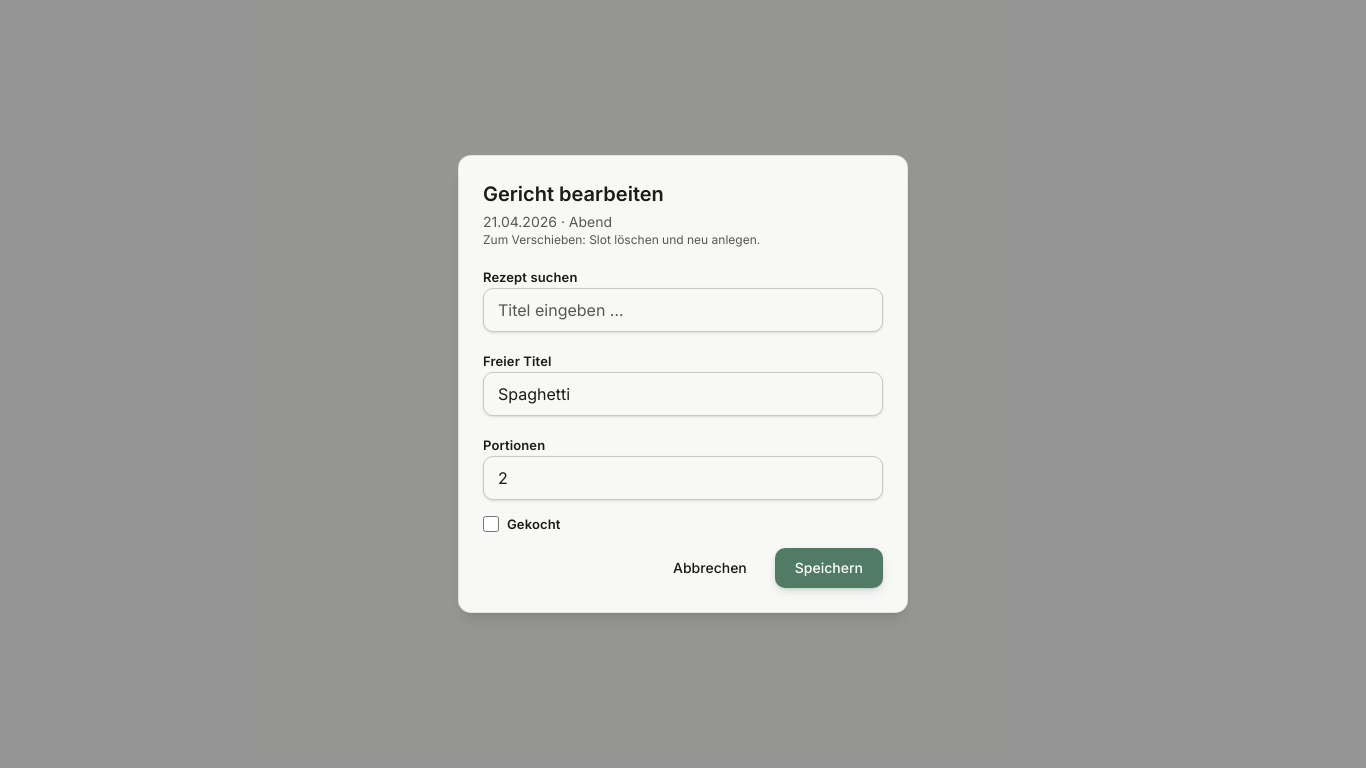
Test: <EditSlotDialog /> › shows the localised errors:<code> copy when the PATCH fails with 400
Replace the text in the number field labelled "Portionen" with "5" at (683, 478), box [483,456,883,500]
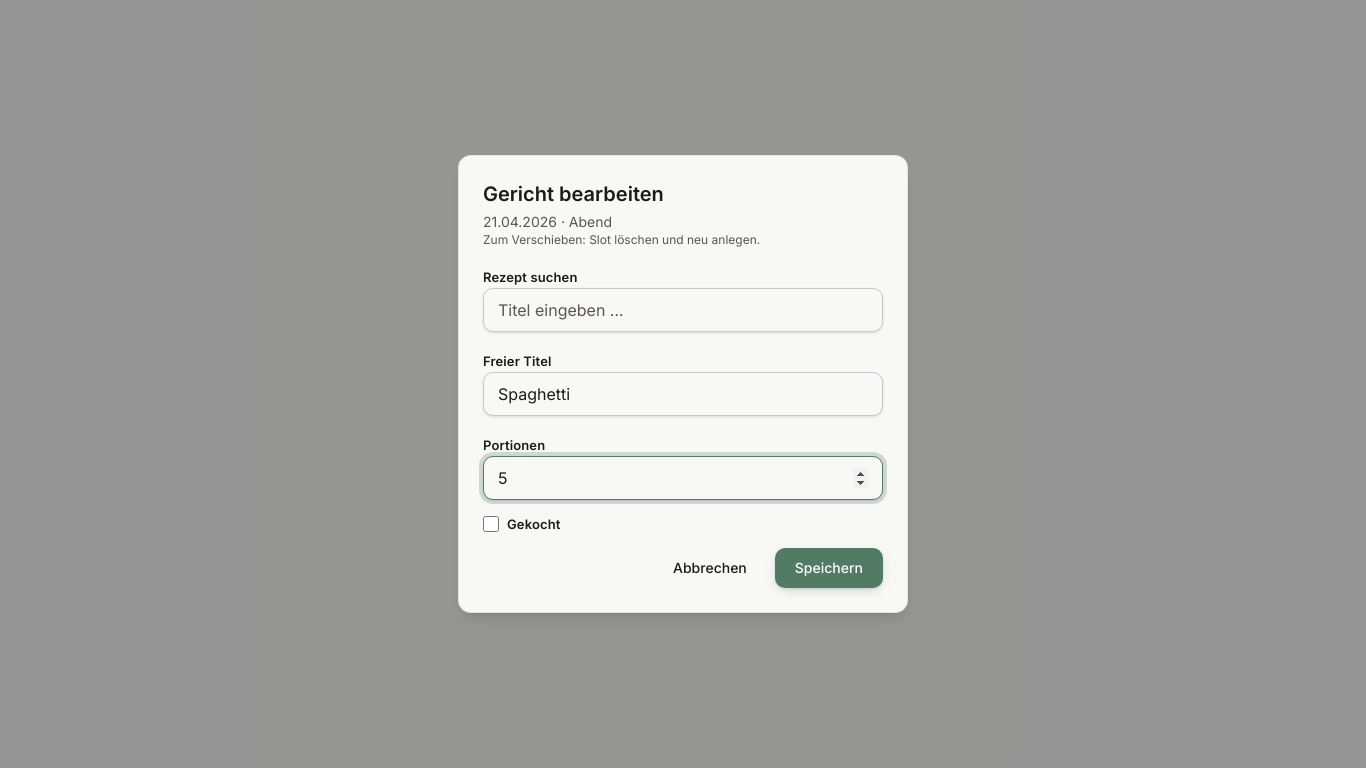
Click the button "Speichern" at (829, 568), box [775,548,883,588]
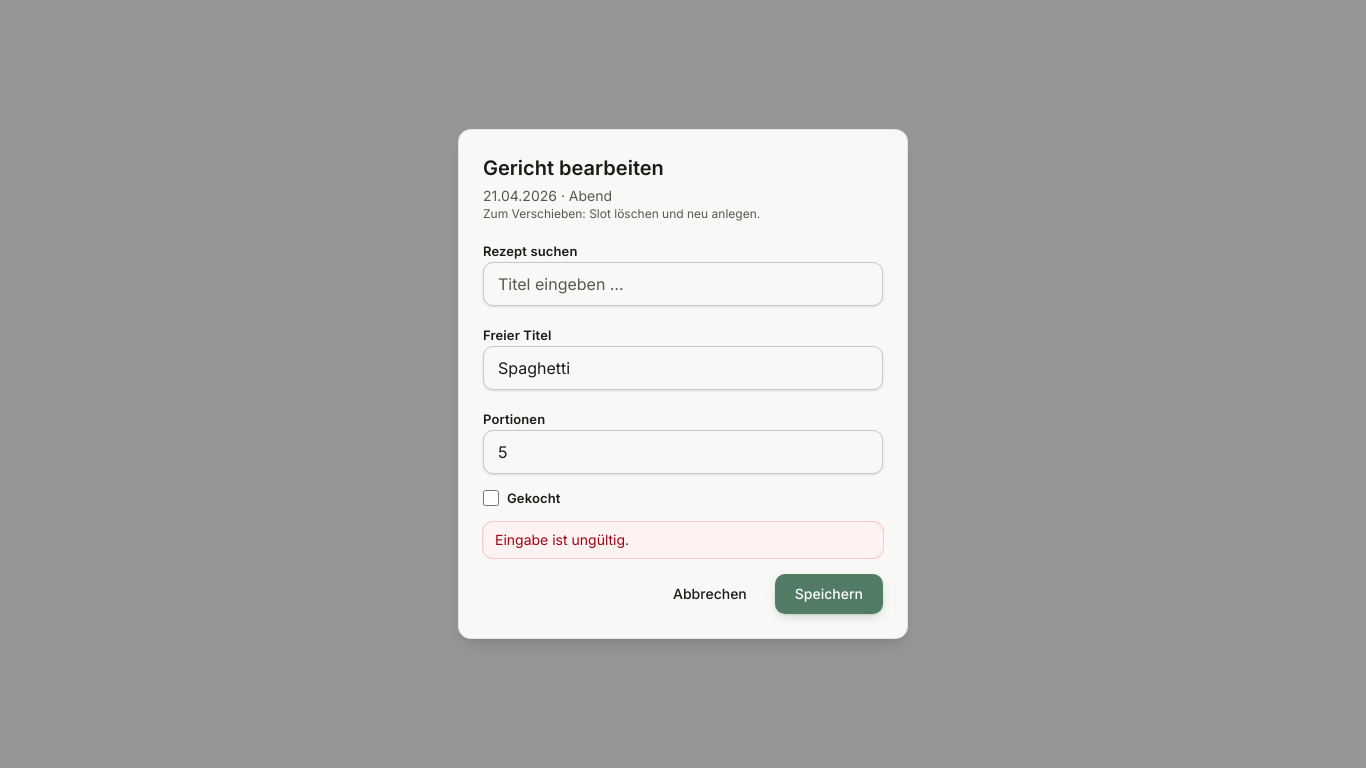
Check: the message does not show "Servings must be 1", box [483,522,883,558]
Check: the message reads "Eingabe ist ungültig.", box [495,531,629,548]
